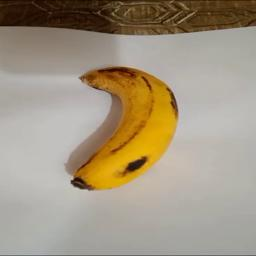Banana Semifresh: (71, 64, 180, 191)
